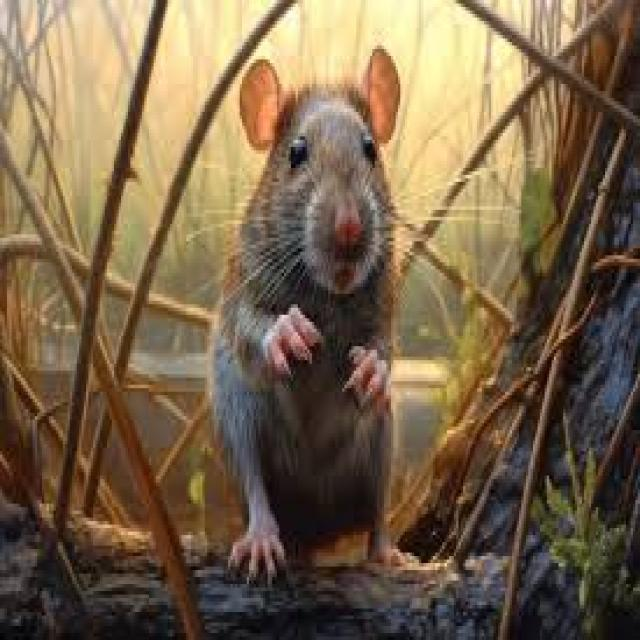Rat: (176, 74, 451, 608)
